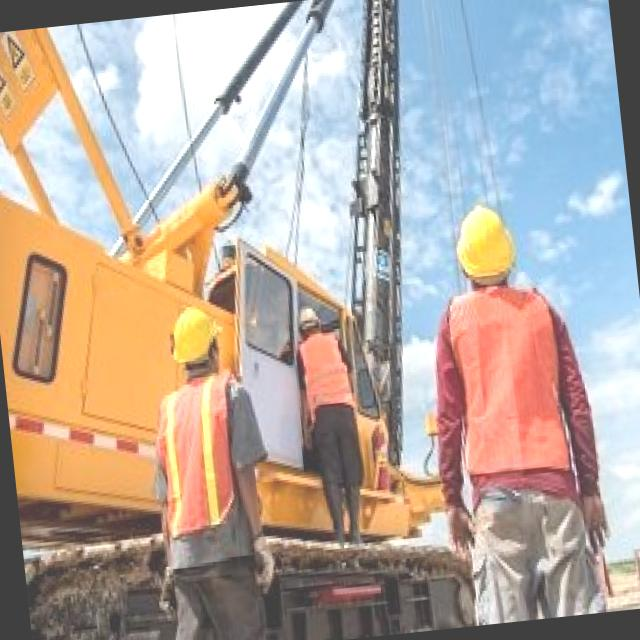helmet: (442, 188, 524, 294), (155, 291, 233, 370)
vest: (436, 262, 589, 490), (148, 362, 248, 552), (291, 326, 354, 419)
